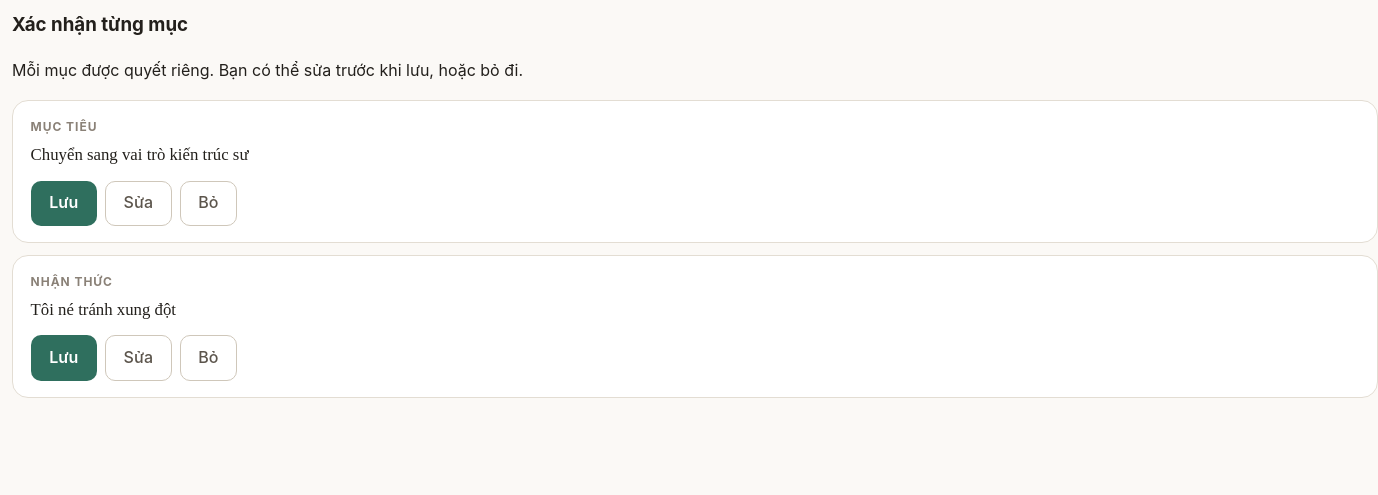
Test: a refused confirmation › reports the reason on the card it belongs to
Click the button "Lưu" below "Chuyển sang vai trò kiến trúc sư". click: [64, 203]
box: [31,181,97,226]
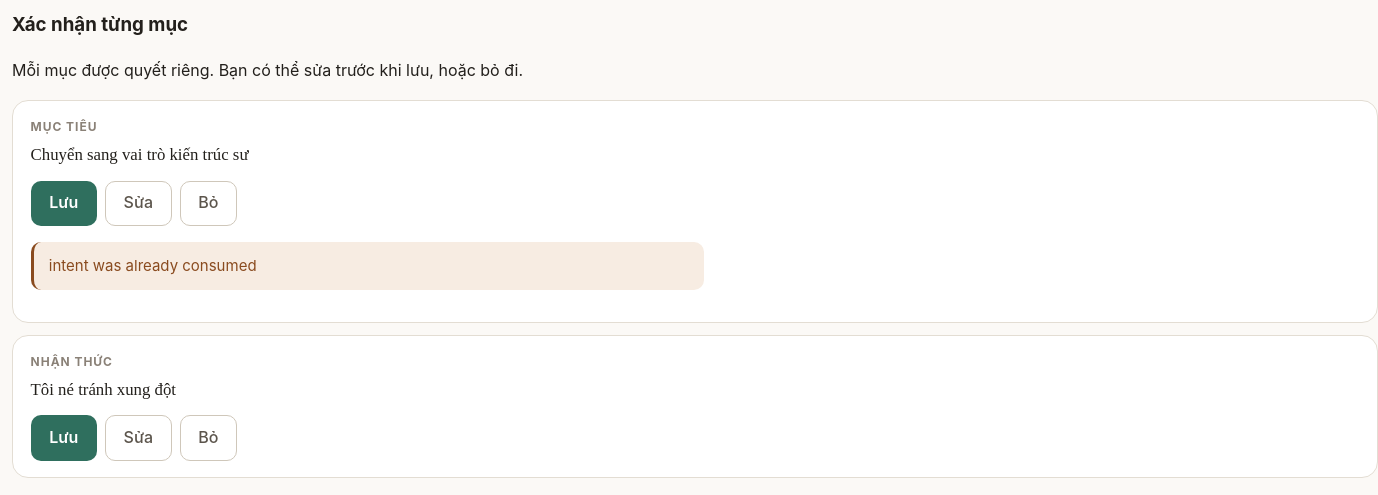
Check: the message with test id "error-cand-1" shows "already consumed", box [49,256,257,275]
